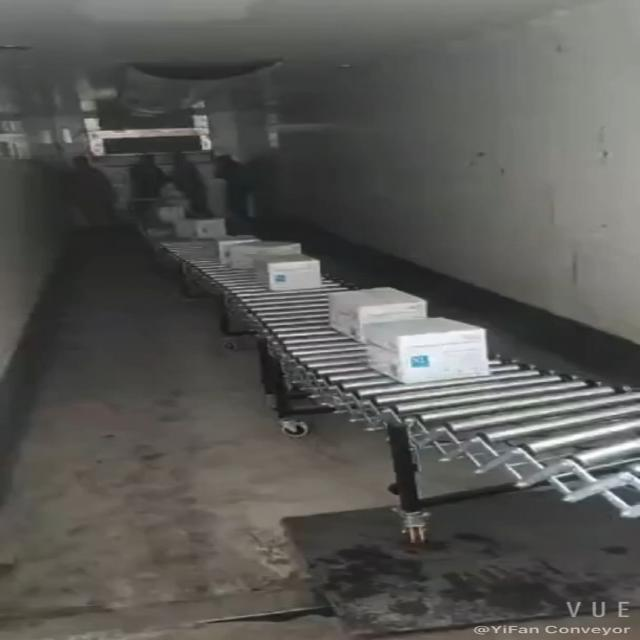Convoyeur: (128, 198, 640, 526)
